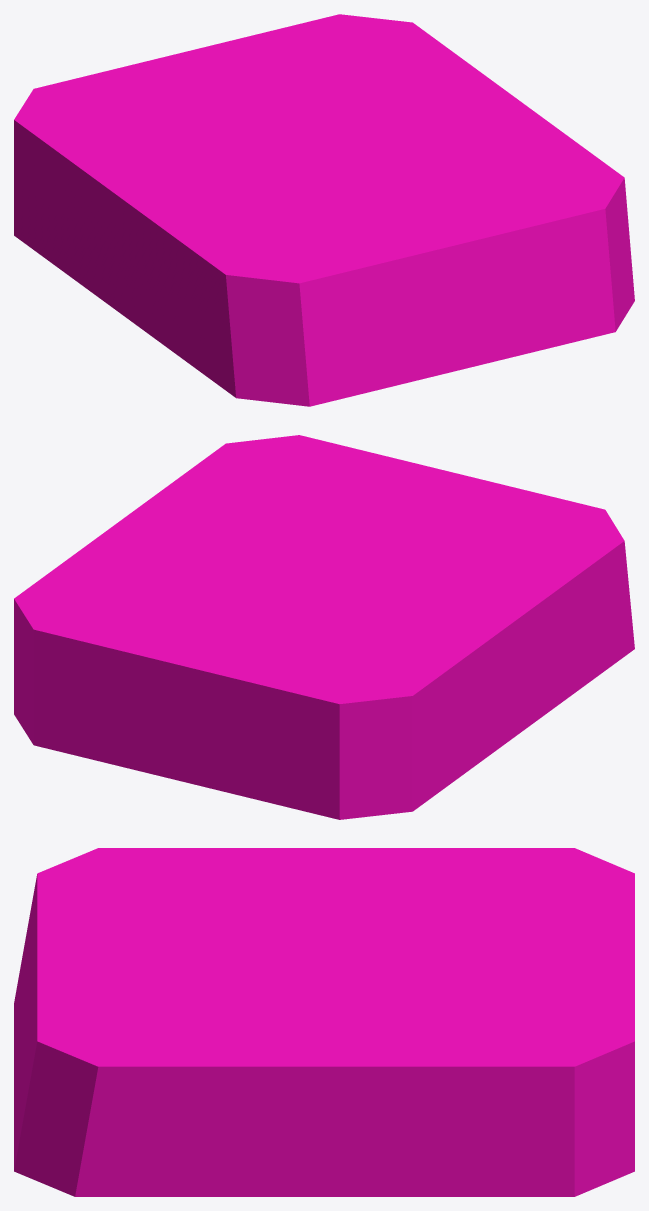
Rendered from study_blanket_5_meshCollider.fbx.
The picture shows the model from 3 angles, top to bottom: view 1: azimuth 30°, elevation 25°; view 2: azimuth 150°, elevation 25°; view 3: azimuth 270°, elevation 25°; orthographic projection. The views are drawn at different scales.
Visible parts, largest first — view 1: study_blanket_5_meshCollider; view 2: study_blanket_5_meshCollider; view 3: study_blanket_5_meshCollider.
Boxes of the visible parts, x1,y1,x2,y2 form: study_blanket_5_meshCollider: (14,14,634,406); study_blanket_5_meshCollider: (14,435,634,819); study_blanket_5_meshCollider: (14,848,634,1196).
Size of the model in its own units: 26.08 by 7.23 by 31.28.
